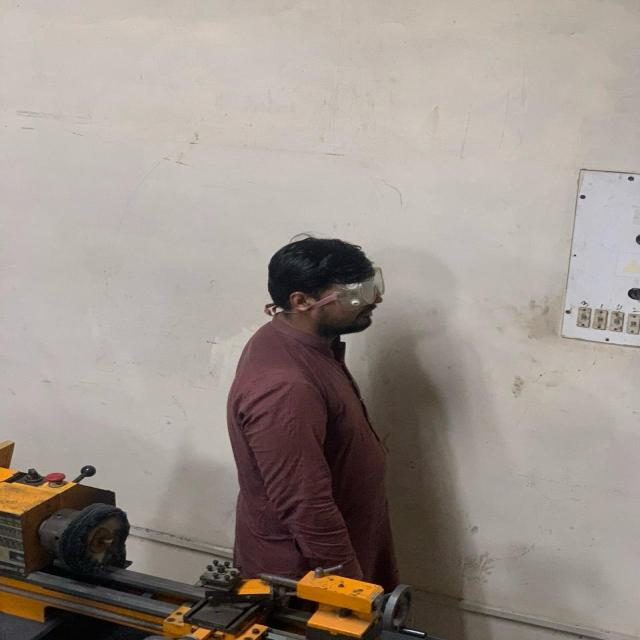googles: (333, 265, 387, 311)
